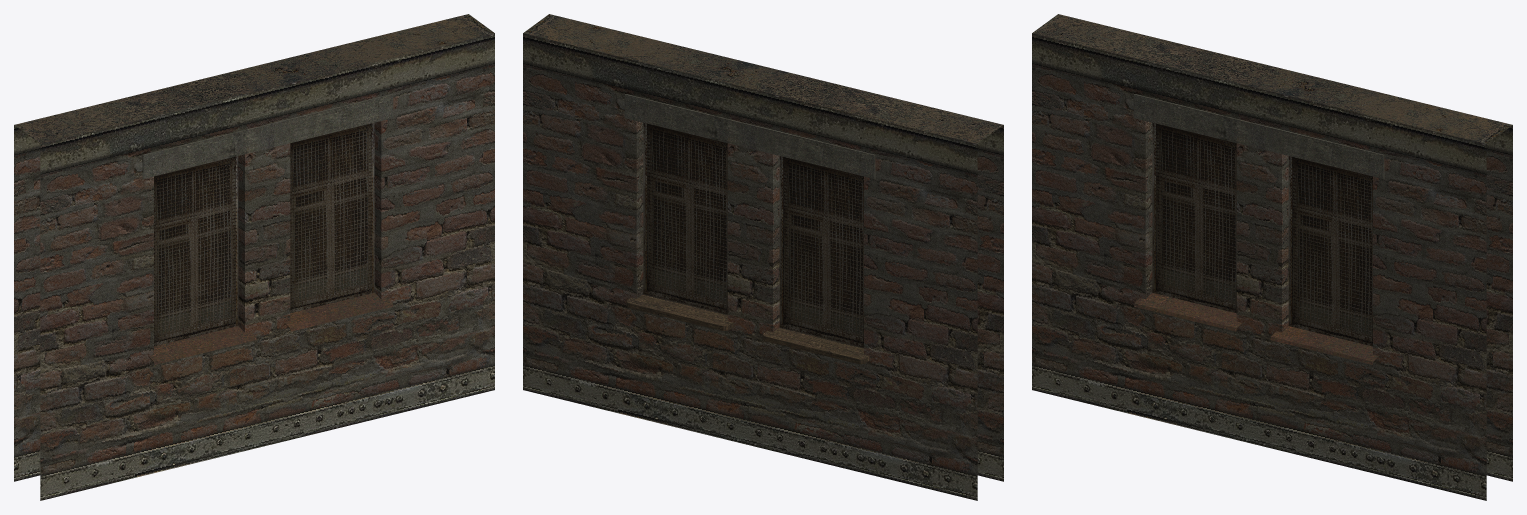
File: windows_hr_1.glb
The picture shows the model from 3 angles, left to right: view 1: azimuth 30°, elevation 25°; view 2: azimuth 150°, elevation 25°; view 3: azimuth 330°, elevation 25°; orthographic projection.
Parts seen in each view (by area): view 1: windows_hr_1; view 2: windows_hr_1; view 3: windows_hr_1.
Boxes of the visible parts, x1,y1,x2,y2 form: windows_hr_1: [14, 14, 494, 500]; windows_hr_1: [523, 14, 1003, 500]; windows_hr_1: [1032, 14, 1512, 500].
Size of the model in its own units: 4 by 3 by 0.595.
Materials: 6 (6 with a texture image).
